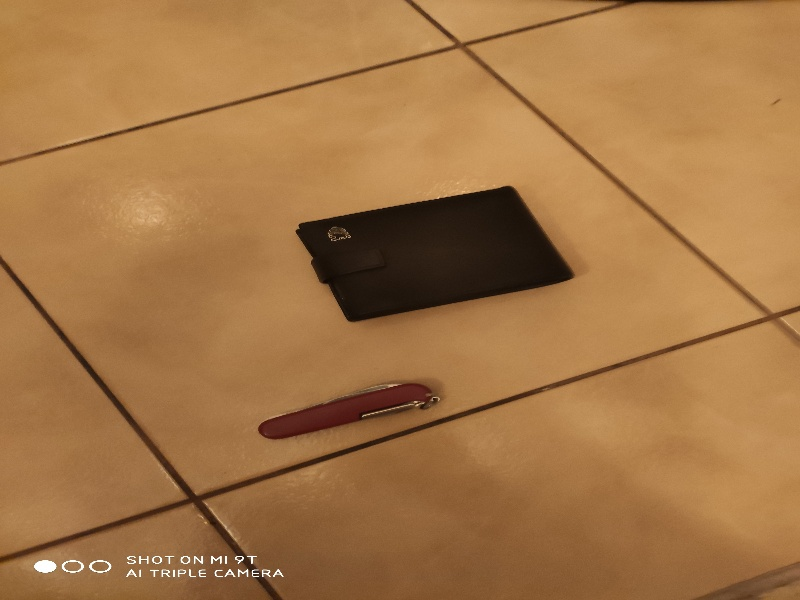knife: (255, 371, 445, 448)
wallet: (288, 175, 575, 325)
